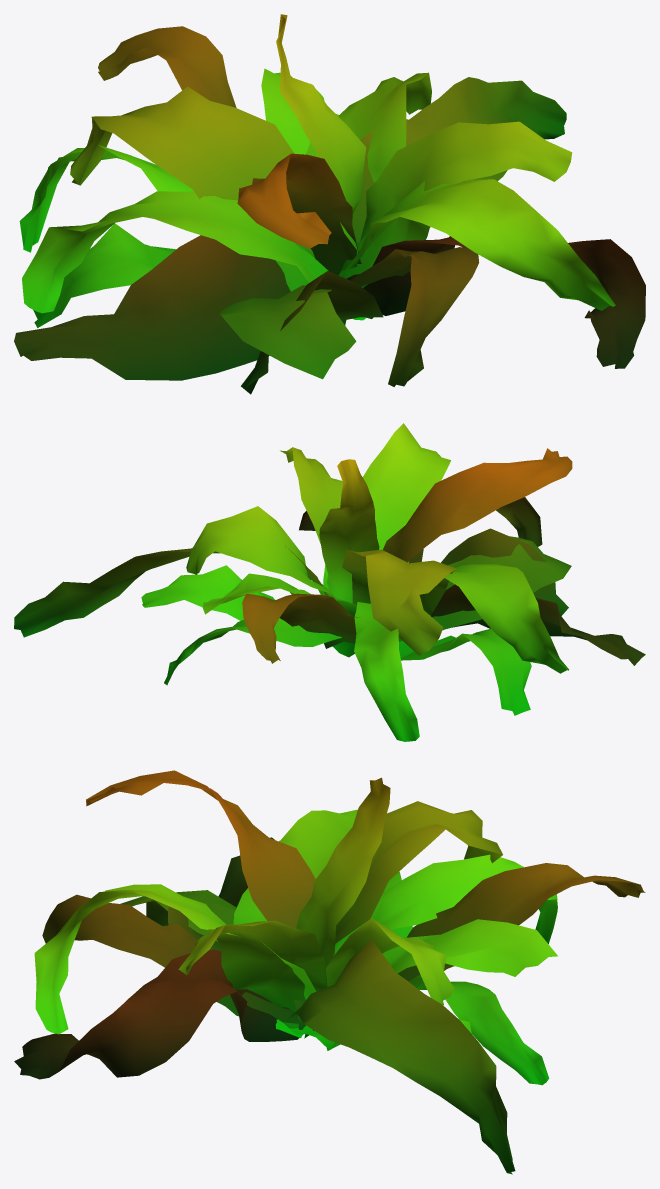
The model's file is SM_OW_Fern_b_LOD0.fbx.
The picture shows the model from 3 angles, top to bottom: view 1: azimuth 30°, elevation 25°; view 2: azimuth 150°, elevation 25°; view 3: azimuth 270°, elevation 25°; orthographic projection. The views are drawn at different scales.
Parts seen in each view (by area): view 1: SM_OW_Fern_b_LOD0; view 2: SM_OW_Fern_b_LOD0; view 3: SM_OW_Fern_b_LOD0.
Part boxes in pixels (left/top/right/bottom): SM_OW_Fern_b_LOD0: left=14, top=14, right=645, bottom=394; SM_OW_Fern_b_LOD0: left=14, top=423, right=645, bottom=741; SM_OW_Fern_b_LOD0: left=14, top=770, right=645, bottom=1174.
Size of the model in its own units: 0.8743 by 0.349 by 0.7652.
